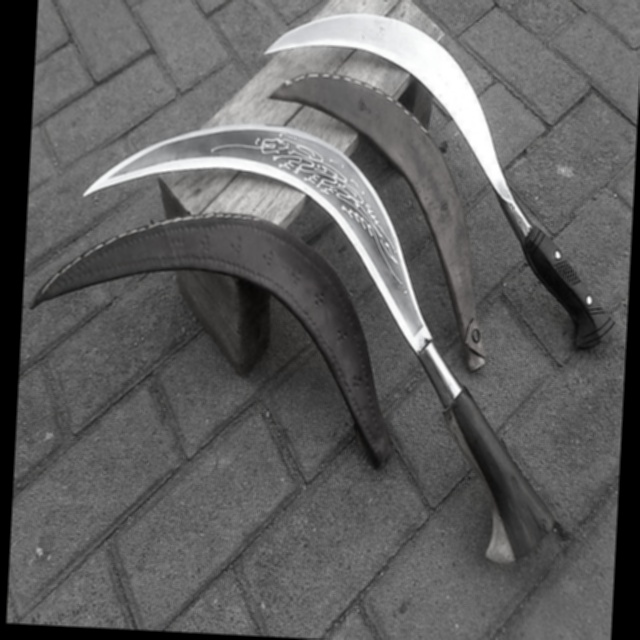Sharp-Object: (63, 108, 601, 582), (257, 0, 640, 356)
